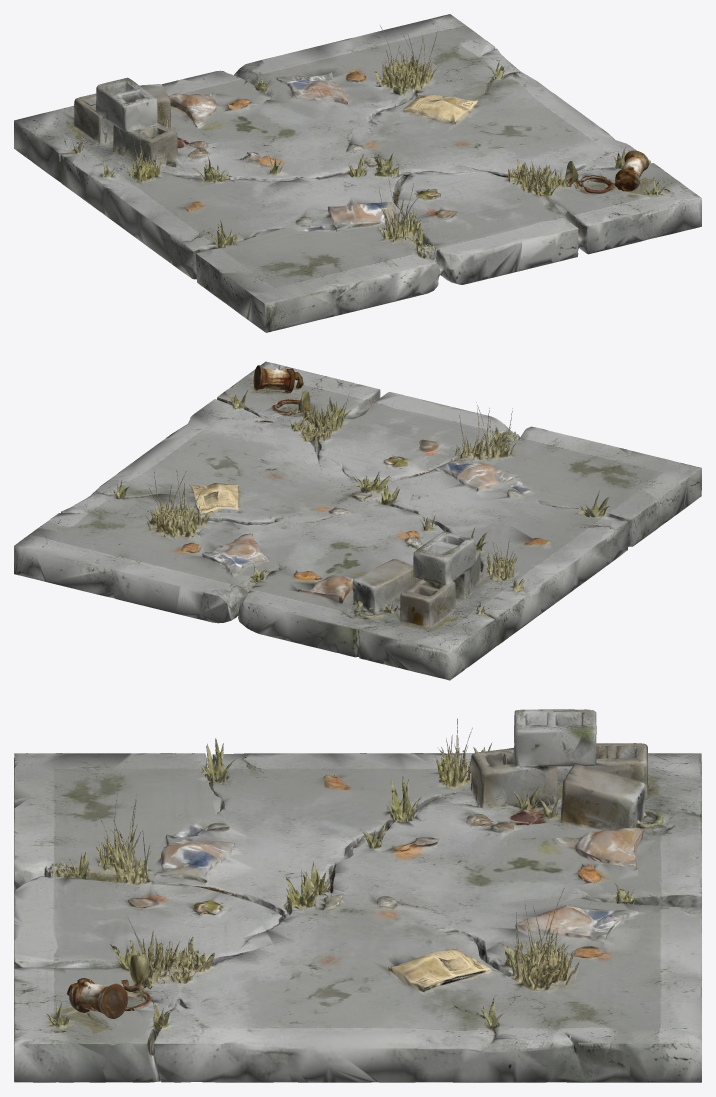
The model's file is vacant_lot_detailed.glb.
3 views of the same model, one above another, from view 1: azimuth 30°, elevation 25°; view 2: azimuth 150°, elevation 25°; view 3: azimuth 270°, elevation 25° (orthographic). The views are drawn at different scales.
Size of the model in its own units: 1.9 by 0.3519 by 1.9.
1 material, 1 textured.
